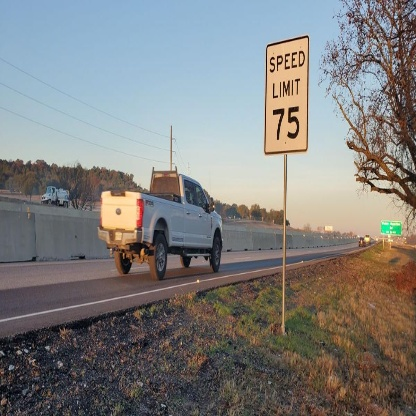limit1: (263, 31, 312, 155)
